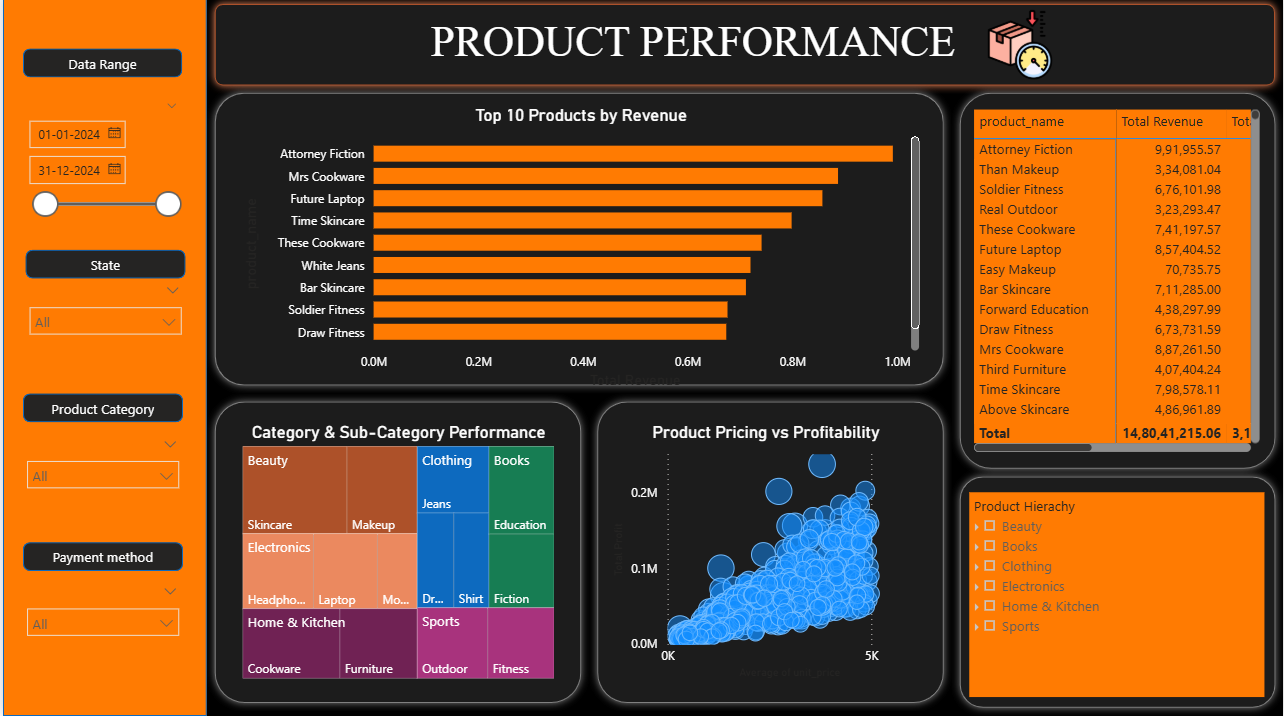

The dashboard page shown, as its layout file describes it:
{"tool":"powerbi","page":{"name":"Page 2","canvas":[1280,720],"ordinal":1},"visuals":[{"type":"shape","box":[948.3,89.3,331.8,392.1],"z":0},{"type":"shape","box":[586.2,397.5,362.5,317.5],"z":1000},{"type":"shape","box":[203.8,397.5,382.5,317.5],"z":2000},{"type":"shape","box":[203.8,0,1076.2,97.5],"z":3000},{"type":"shape","box":[0,0,203.8,720],"z":4000},{"type":"textbox","box":[358.8,16.2,621.2,72.5],"z":5000},{"type":"treemap","title":"Category & Sub-Category Performance","fields":{"Group":["warehouse dim_products.category"],"Details":["warehouse dim_products.sub_category"],"Values":["warehouse fact_sales.Total Revenue"]},"box":[235,426.2,321.2,261.2],"z":6000},{"type":"pivotTable","fields":{"Rows":["warehouse dim_products.product_name"],"Values":["warehouse fact_sales.Total Revenue","warehouse fact_sales.Total Profit","Sum(warehouse fact_sales.quantity)"]},"box":[966.4,108.6,295.6,352.3],"z":7000},{"type":"slicer","title":"Payment Method","fields":{"Values":["warehouse dim_payment_method.payment_method_name"]},"box":[13.8,583.8,172.5,103.8],"z":8000},{"type":"slicer","title":"State","fields":{"Values":["warehouse dim_customers.state"]},"box":[16.2,282.5,172.5,88.8],"z":9000},{"type":"slicer","title":"Product Category","fields":{"Values":["warehouse dim_products.category"]},"box":[13.8,436.2,172.5,91.2],"z":10000},{"type":"slicer","title":"Date Range","fields":{"Values":["warehouse dim_date.full_date"]},"box":[13.3,100.1,172.5,143.6],"z":11000},{"type":"shape","box":[20.5,53.1,159.3,29],"z":12000},{"type":"shape","box":[22.5,253.8,160,28.8],"z":13000},{"type":"shape","box":[20,546.2,160,28.8],"z":14000},{"type":"shape","box":[20,397.5,160,28.8],"z":15000},{"type":"image","box":[966.2,8.8,101.2,80],"z":16000},{"type":"shape","box":[203.8,88.8,745,308.8],"z":17000},{"type":"barChart","title":"Top 10 Products by Revenue","fields":{"Category":["warehouse dim_products.product_name"],"Y":["warehouse fact_sales.Total Revenue"]},"box":[235,108.8,686.2,288.8],"z":18000},{"type":"scatterChart","title":"Product Pricing vs Profitability","fields":{"Y":["warehouse fact_sales.Total Profit"],"Size":["Sum(warehouse fact_sales.quantity)"],"Series":["warehouse dim_products.price_range"],"X":["Avg(warehouse fact_sales.unit_price)"],"Category":["warehouse dim_products.product_name"]},"box":[605,426.2,316.2,261.2],"z":19000},{"type":"shape","box":[948.3,472.9,331.8,247.3],"z":19001},{"type":"HierarchySlicer1458836712039","fields":{"Fields":["warehouse dim_products.category","warehouse dim_products.sub_category","warehouse dim_products.product_name"]},"box":[966.4,495.8,295.6,205.1],"z":19002}]}

Visuals, with their boxes in screenshot pixels (x1, y1, x2, y2), scaled from the page's 1280x720 canvas onto the 1284x716 screenshot:
shape: <region>951, 89, 1283, 479</region>
shape: <region>588, 395, 952, 711</region>
shape: <region>204, 395, 588, 711</region>
shape: <region>204, 0, 1283, 97</region>
shape: <region>0, 0, 204, 715</region>
textbox: <region>360, 16, 983, 88</region>
"Category & Sub-Category Performance" treemap: <region>236, 424, 558, 684</region>
pivotTable - warehouse dim_products.product_name x warehouse fact_sales.Total Revenue: <region>969, 108, 1266, 458</region>
"Payment Method" slicer: <region>14, 581, 187, 684</region>
"State" slicer: <region>16, 281, 189, 369</region>
"Product Category" slicer: <region>14, 434, 187, 524</region>
"Date Range" slicer: <region>13, 100, 186, 242</region>
shape: <region>21, 53, 180, 82</region>
shape: <region>23, 252, 183, 281</region>
shape: <region>20, 543, 181, 572</region>
shape: <region>20, 395, 181, 424</region>
image: <region>969, 9, 1071, 88</region>
shape: <region>204, 88, 952, 395</region>
"Top 10 Products by Revenue" barChart: <region>236, 108, 924, 395</region>
"Product Pricing vs Profitability" scatterChart: <region>607, 424, 924, 684</region>
shape: <region>951, 470, 1283, 715</region>
HierarchySlicer1458836712039 - warehouse dim_products.category x warehouse dim_products.sub_category: <region>969, 493, 1266, 697</region>
